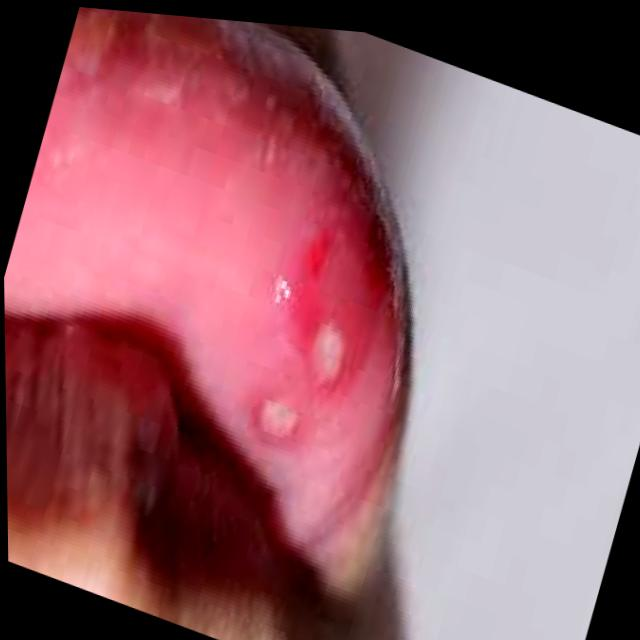ulcer: (311, 325, 340, 380), (259, 403, 295, 437)
